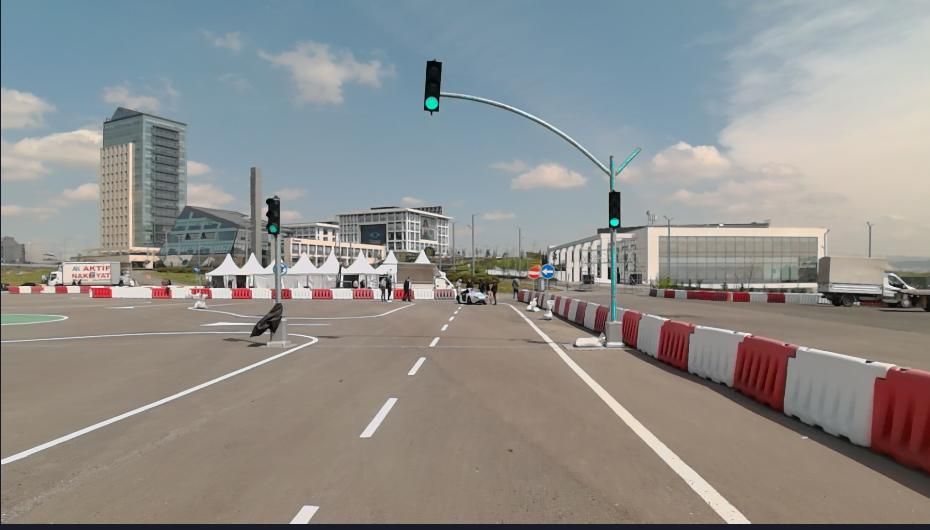nesne: (0, 293, 752, 525), (0, 297, 465, 525), (288, 302, 749, 525), (500, 301, 750, 528), (0, 335, 316, 465), (436, 90, 645, 190), (621, 307, 795, 416), (790, 342, 888, 451), (875, 367, 929, 480), (819, 255, 916, 308), (730, 332, 789, 412), (681, 324, 742, 386), (47, 261, 130, 287), (552, 295, 608, 333), (286, 301, 413, 317), (90, 286, 272, 297), (248, 301, 288, 346), (658, 319, 693, 370), (394, 261, 450, 290), (359, 396, 398, 436), (574, 317, 623, 347), (633, 312, 663, 361), (650, 289, 752, 302), (424, 60, 443, 112), (622, 308, 640, 348), (289, 503, 319, 526), (782, 344, 792, 413), (781, 291, 829, 305), (265, 194, 280, 234), (608, 189, 623, 228), (686, 290, 750, 299), (610, 228, 616, 321), (110, 288, 151, 300), (274, 234, 281, 304), (593, 304, 610, 332), (406, 354, 426, 375), (463, 288, 487, 305), (583, 302, 597, 330), (576, 299, 587, 327), (540, 263, 556, 282), (567, 299, 579, 324), (402, 273, 412, 302), (90, 286, 110, 299), (526, 264, 542, 280), (150, 288, 171, 300), (172, 288, 193, 300), (291, 287, 313, 298), (412, 288, 433, 299), (232, 287, 252, 298), (746, 290, 766, 301), (210, 288, 231, 298), (251, 288, 270, 299), (331, 289, 353, 298), (351, 289, 373, 298), (512, 275, 520, 299), (563, 296, 571, 320), (312, 289, 331, 299), (434, 289, 455, 298), (544, 298, 553, 319), (558, 296, 566, 318), (456, 277, 463, 302), (768, 292, 783, 303), (491, 278, 497, 305), (39, 286, 56, 295), (192, 300, 207, 310), (387, 275, 393, 300), (528, 297, 538, 312), (193, 289, 209, 298), (428, 336, 439, 349), (479, 278, 488, 293), (381, 277, 386, 302), (531, 278, 536, 301), (17, 285, 31, 293), (674, 290, 688, 298), (394, 289, 404, 300), (553, 295, 558, 314), (8, 285, 17, 295), (544, 280, 547, 309), (466, 277, 473, 289), (282, 289, 291, 298), (67, 287, 80, 293), (79, 287, 90, 294), (664, 291, 675, 298), (29, 287, 40, 293), (524, 290, 529, 303), (57, 287, 66, 294), (373, 289, 380, 298), (519, 291, 525, 301), (657, 290, 665, 297), (269, 288, 275, 297), (651, 289, 657, 296)
